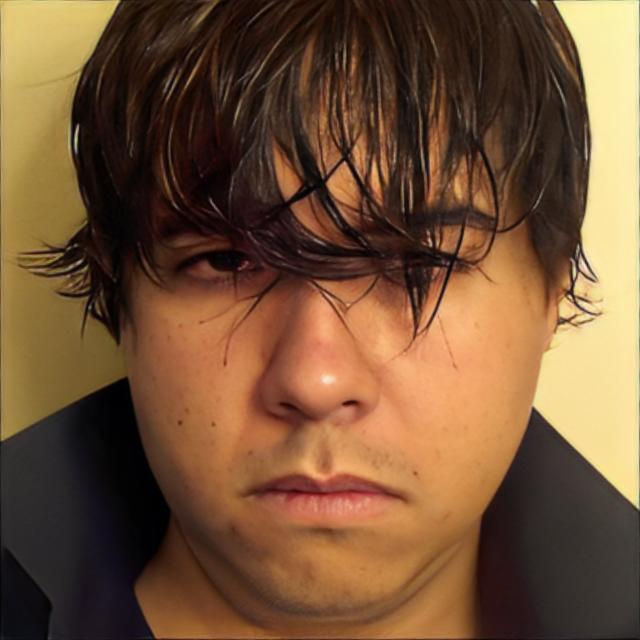sad: (121, 58, 545, 613)
